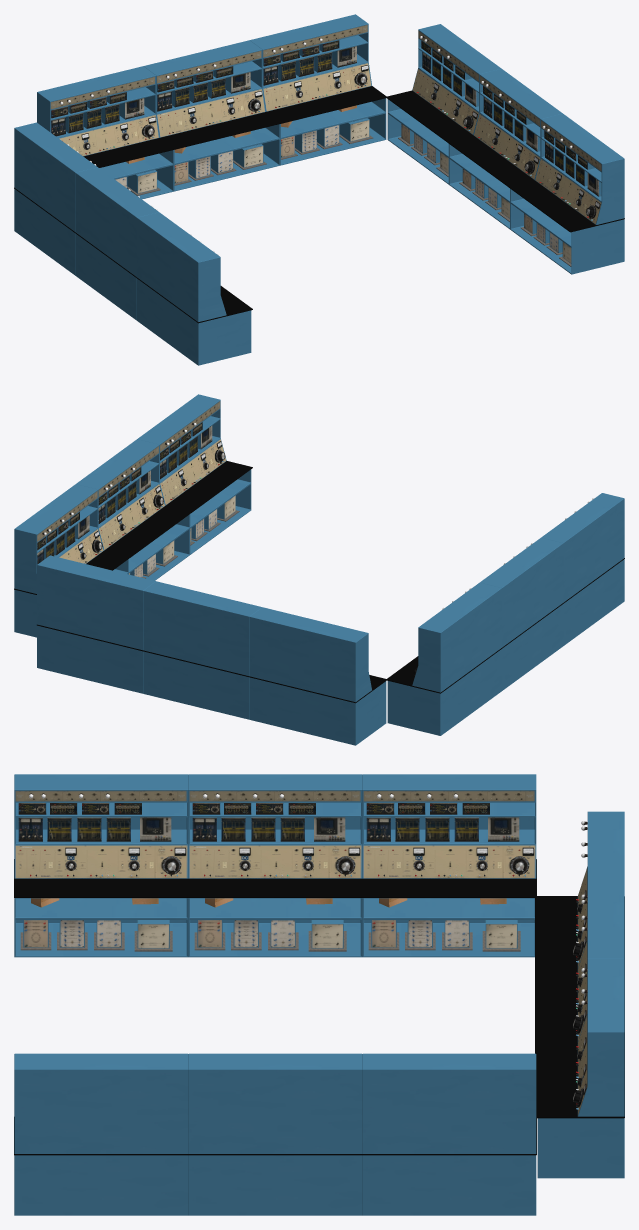
The model's file is TestBenches.gltf.
3 renders of one model, top to bottom at view 1: azimuth 30°, elevation 25°; view 2: azimuth 150°, elevation 25°; view 3: azimuth 270°, elevation 25°, orthographic. The views are drawn at different scales.
Visible parts, largest first — view 1: TestBench_Main_geo10; view 2: TestBench_Main_geo10; view 3: TestBench_Main_geo10.
Part boxes in pixels (<box>): TestBench_Main_geo10: <box>14,14,624,365</box>; TestBench_Main_geo10: <box>14,394,624,745</box>; TestBench_Main_geo10: <box>14,774,624,1215</box>.
Size of the model in its own units: 804 by 186 by 702.
Materials: 1 (1 with a texture image).
